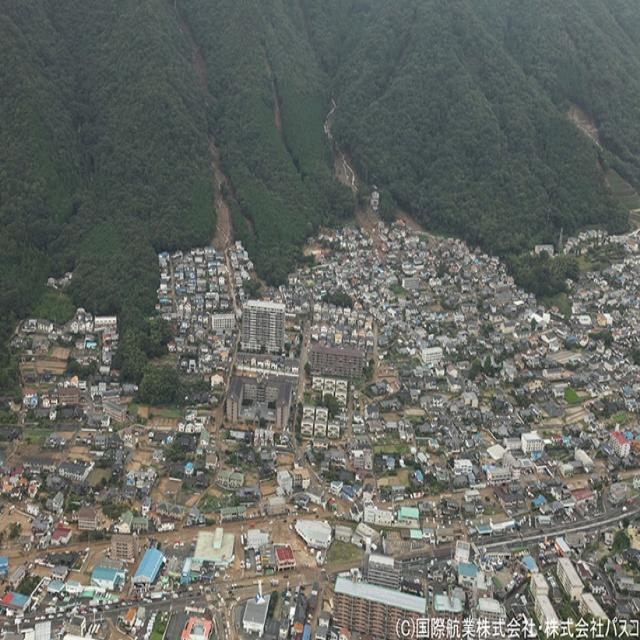Debris-flow: (324, 98, 356, 193), (209, 135, 234, 248), (566, 105, 601, 147), (605, 169, 640, 208), (191, 38, 208, 89)
